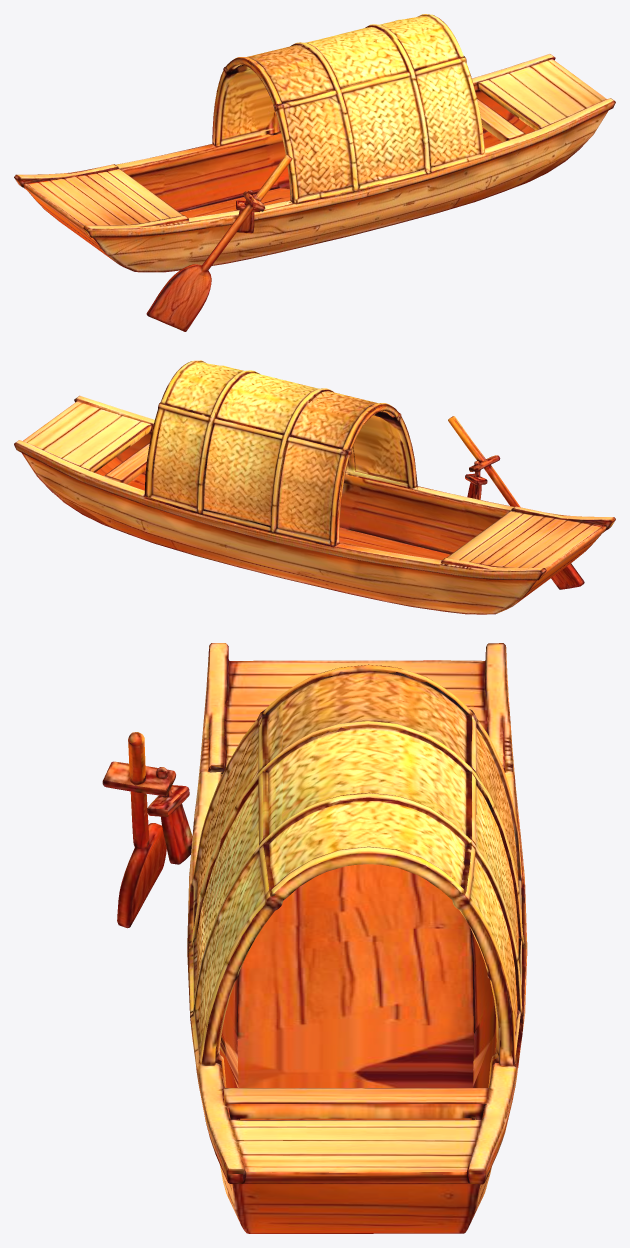
Rendered from qm_canopy_lo.glb.
3 renders of one model, top to bottom at view 1: azimuth 30°, elevation 25°; view 2: azimuth 150°, elevation 25°; view 3: azimuth 270°, elevation 25°, orthographic. The views are drawn at different scales.
Visible parts, largest first — view 1: qm_canopy; view 2: qm_canopy; view 3: qm_canopy.
Part boxes in pixels (bbox=[...]): qm_canopy: bbox=[14, 14, 615, 331]; qm_canopy: bbox=[14, 360, 615, 614]; qm_canopy: bbox=[102, 643, 527, 1233].
Bounding box in the file's own units: 7 × 2.44 × 2.41.
Materials: 1 (1 with a texture image).
